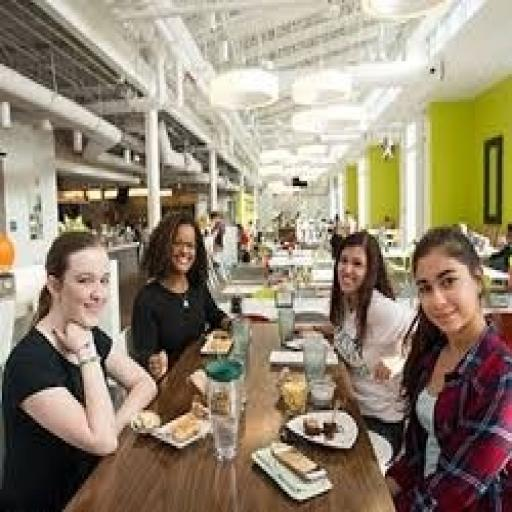eating: (0, 227, 160, 509), (383, 224, 510, 510)
